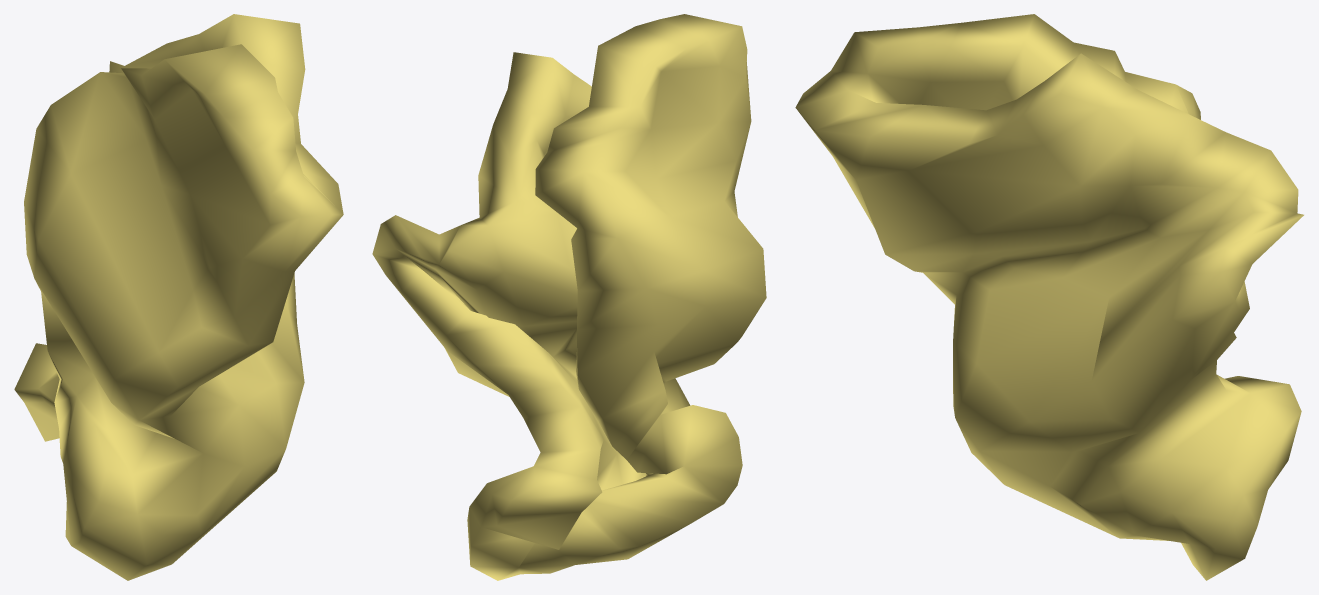
The model's file is transverse-occipital-sulcus-r.glb.
3 renders of one model, left to right at view 1: azimuth 30°, elevation 25°; view 2: azimuth 150°, elevation 25°; view 3: azimuth 270°, elevation 25°, orthographic. The views are drawn at different scales.
Parts seen in each view (by area): view 1: Transverse occipital sulcus.r; view 2: Transverse occipital sulcus.r; view 3: Transverse occipital sulcus.r.
Boxes of the visible parts, x1,y1,x2,y2 form: Transverse occipital sulcus.r: (14,14,343,580); Transverse occipital sulcus.r: (372,14,766,580); Transverse occipital sulcus.r: (795,14,1303,580).
Size of the model in its own units: 0.0172 by 0.0288 by 0.0252.
